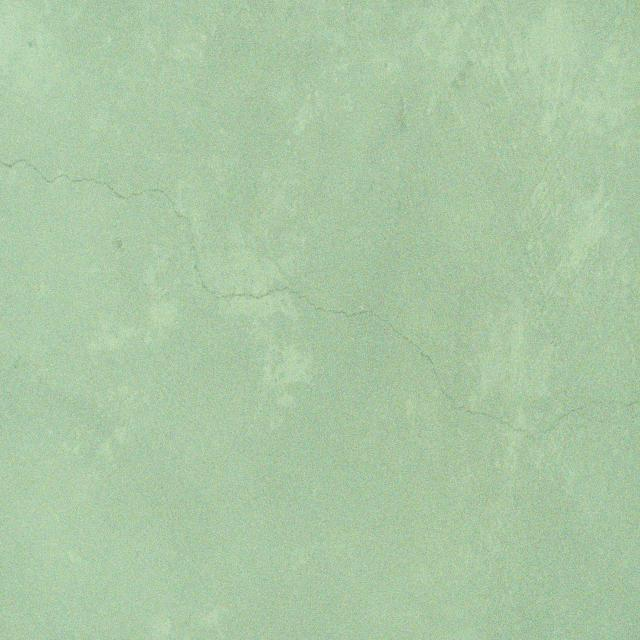crack: (0, 157, 640, 440)
